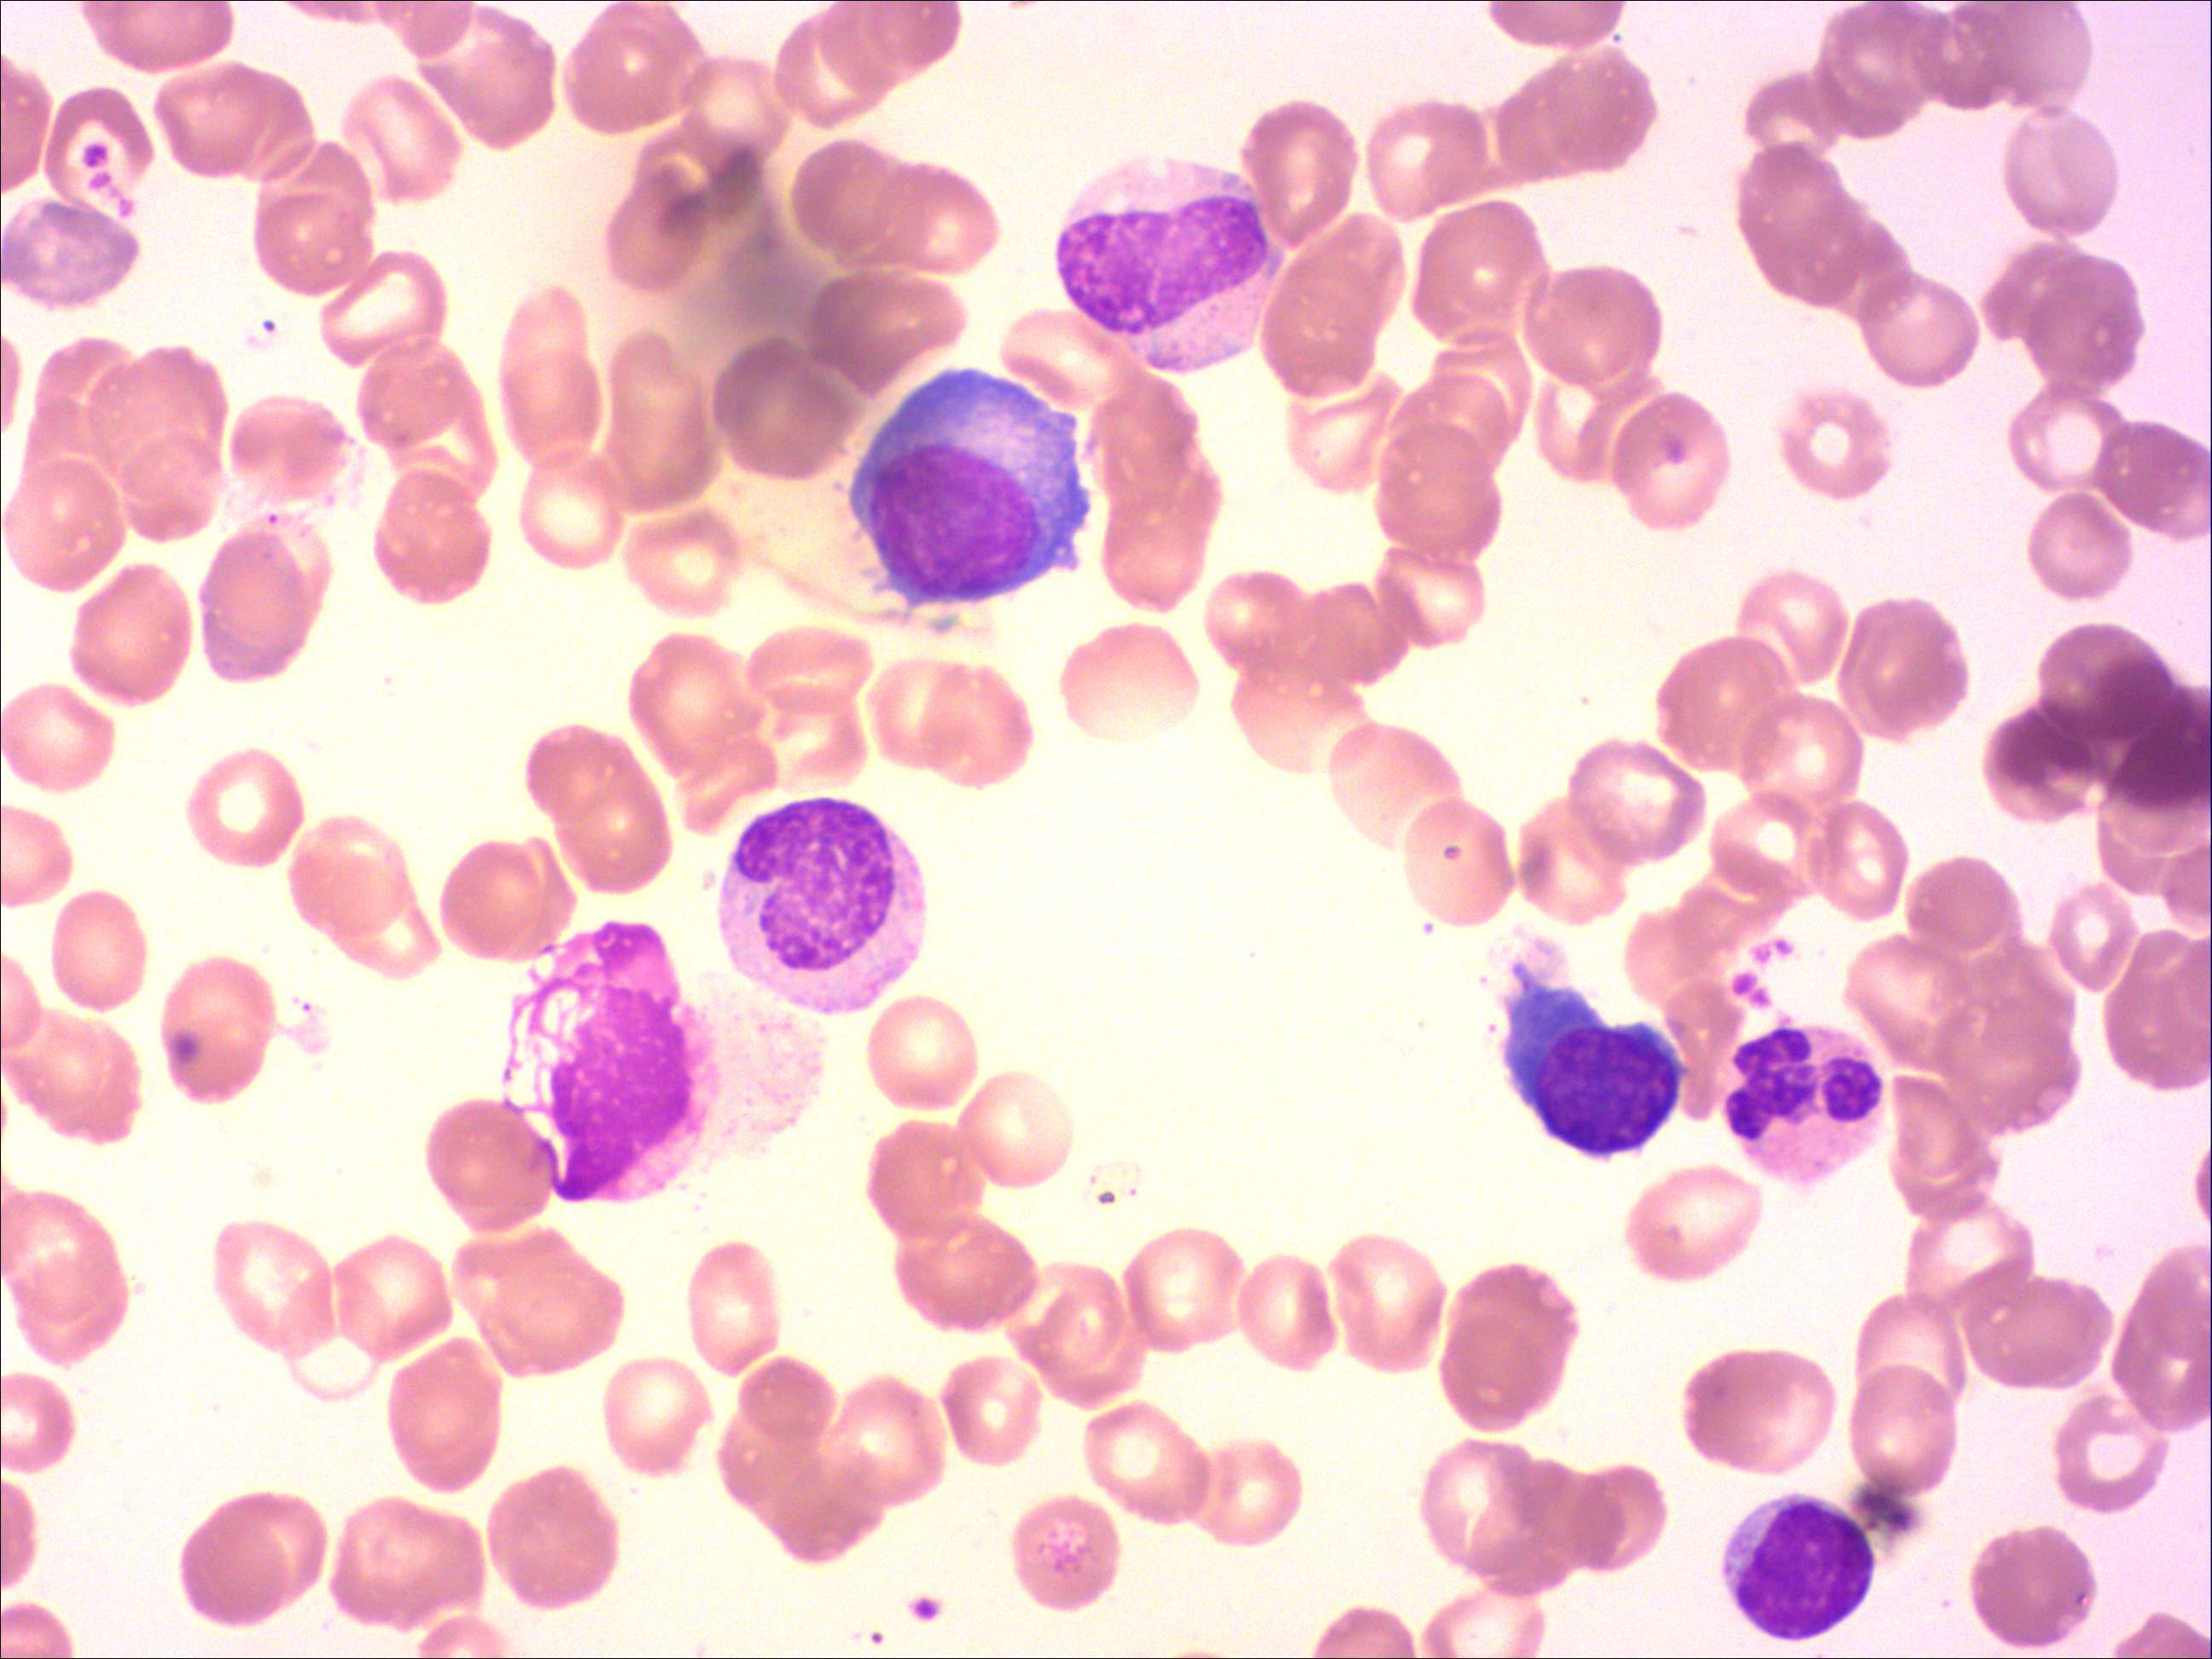32: (1714, 1486, 1881, 1647)
5: (711, 789, 935, 1025)
51: (840, 355, 1094, 617)
52: (1487, 948, 1695, 1166)
6: (1716, 1016, 1895, 1195)
x: (493, 915, 719, 1213), (1047, 146, 1298, 382)
